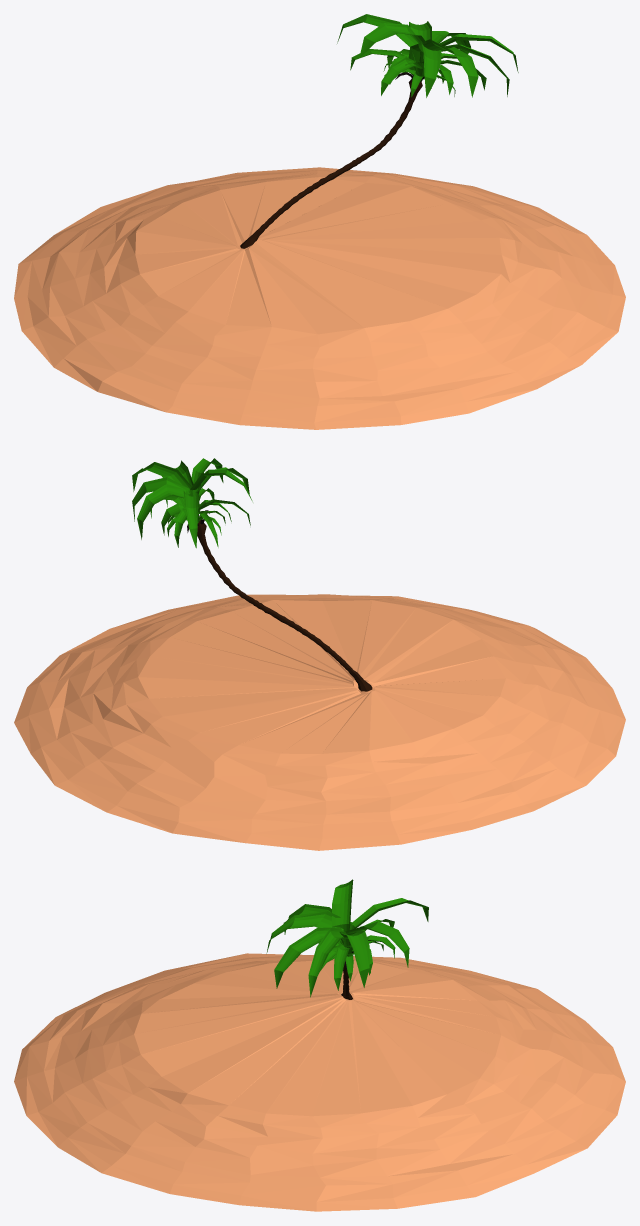
The model's file is Palma 1.FBX.
3 renders of one model, top to bottom at view 1: azimuth 30°, elevation 25°; view 2: azimuth 150°, elevation 25°; view 3: azimuth 270°, elevation 25°, orthographic.
Visible parts, largest first — view 1: Cone001, Plane024, Line001; view 2: Cone001, Plane024, Line001; view 3: Cone001, Plane024.
Part boxes in pixels (left/top/right/bottom): Cone001: left=14, top=167, right=625, bottom=429; Plane024: left=337, top=14, right=518, bottom=97; Line001: left=240, top=79, right=422, bottom=248; Cone001: left=14, top=594, right=625, bottom=850; Plane024: left=132, top=458, right=252, bottom=548; Line001: left=197, top=520, right=372, bottom=691; Cone001: left=14, top=953, right=625, bottom=1211; Plane024: left=266, top=879, right=428, bottom=997.
Bounding box in the file's own units: 104 × 104 × 45.61.
